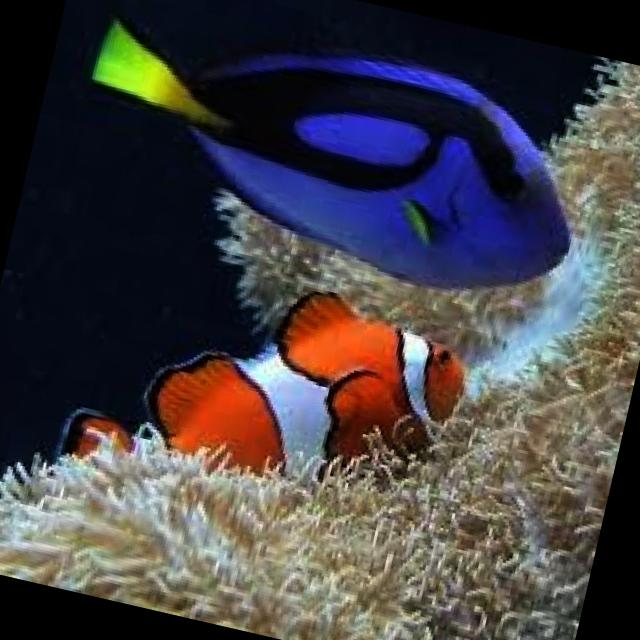ClownFish: (59, 239, 482, 546)
TangFish: (53, 0, 598, 314)
